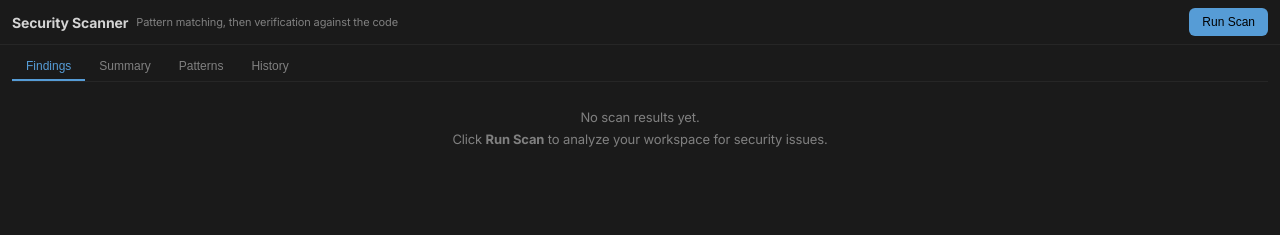
Test: SecurityScanPanel — verification › drops a refuted candidate from the findings list and keeps it under Ruled out
This screenshot has width=1280, height=235.
Click the button "Run Scan" at (1229, 22), box [1189,8,1268,36]
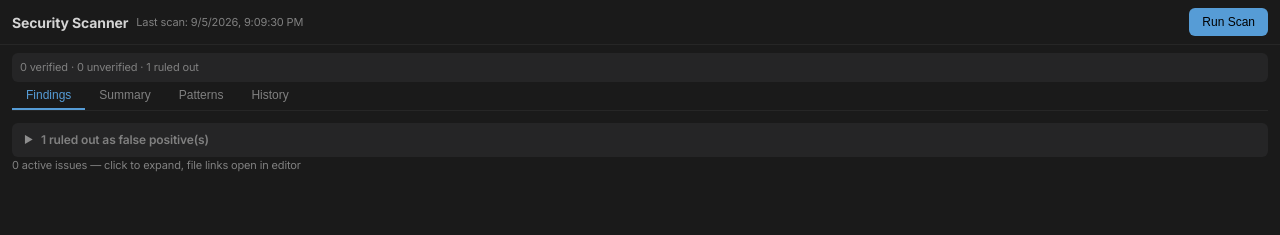
Now the text "1 ruled out as false positive(s)" is shown
Click the text "1 ruled out as false positive(s)" at (125, 140), box [41,130,209,148]
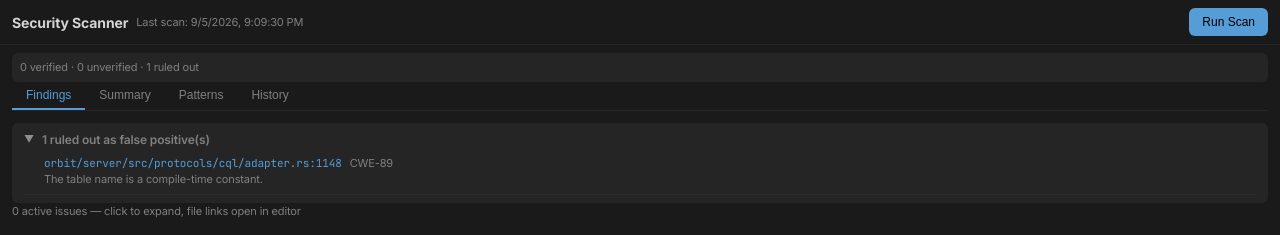
Now the text "The table name is a compile-time constant." is shown, box [44,172,263,186]
